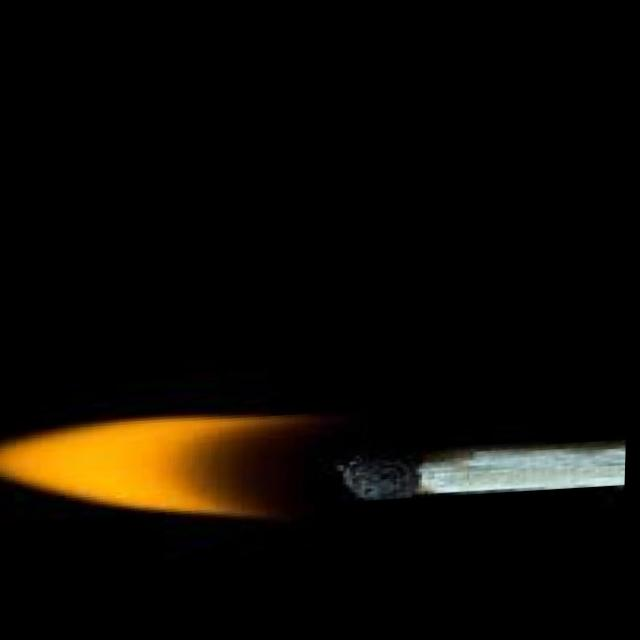Fire: (0, 400, 350, 544)
